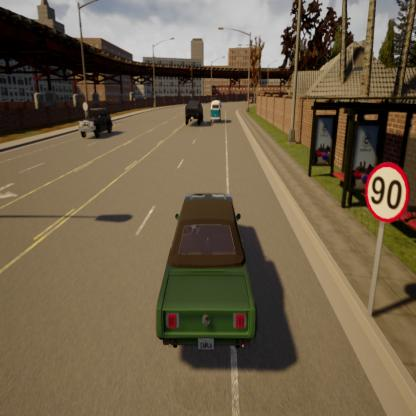Cars: (157, 192, 257, 352), (80, 107, 112, 139), (185, 101, 203, 123), (210, 98, 222, 122), (248, 94, 256, 107)
